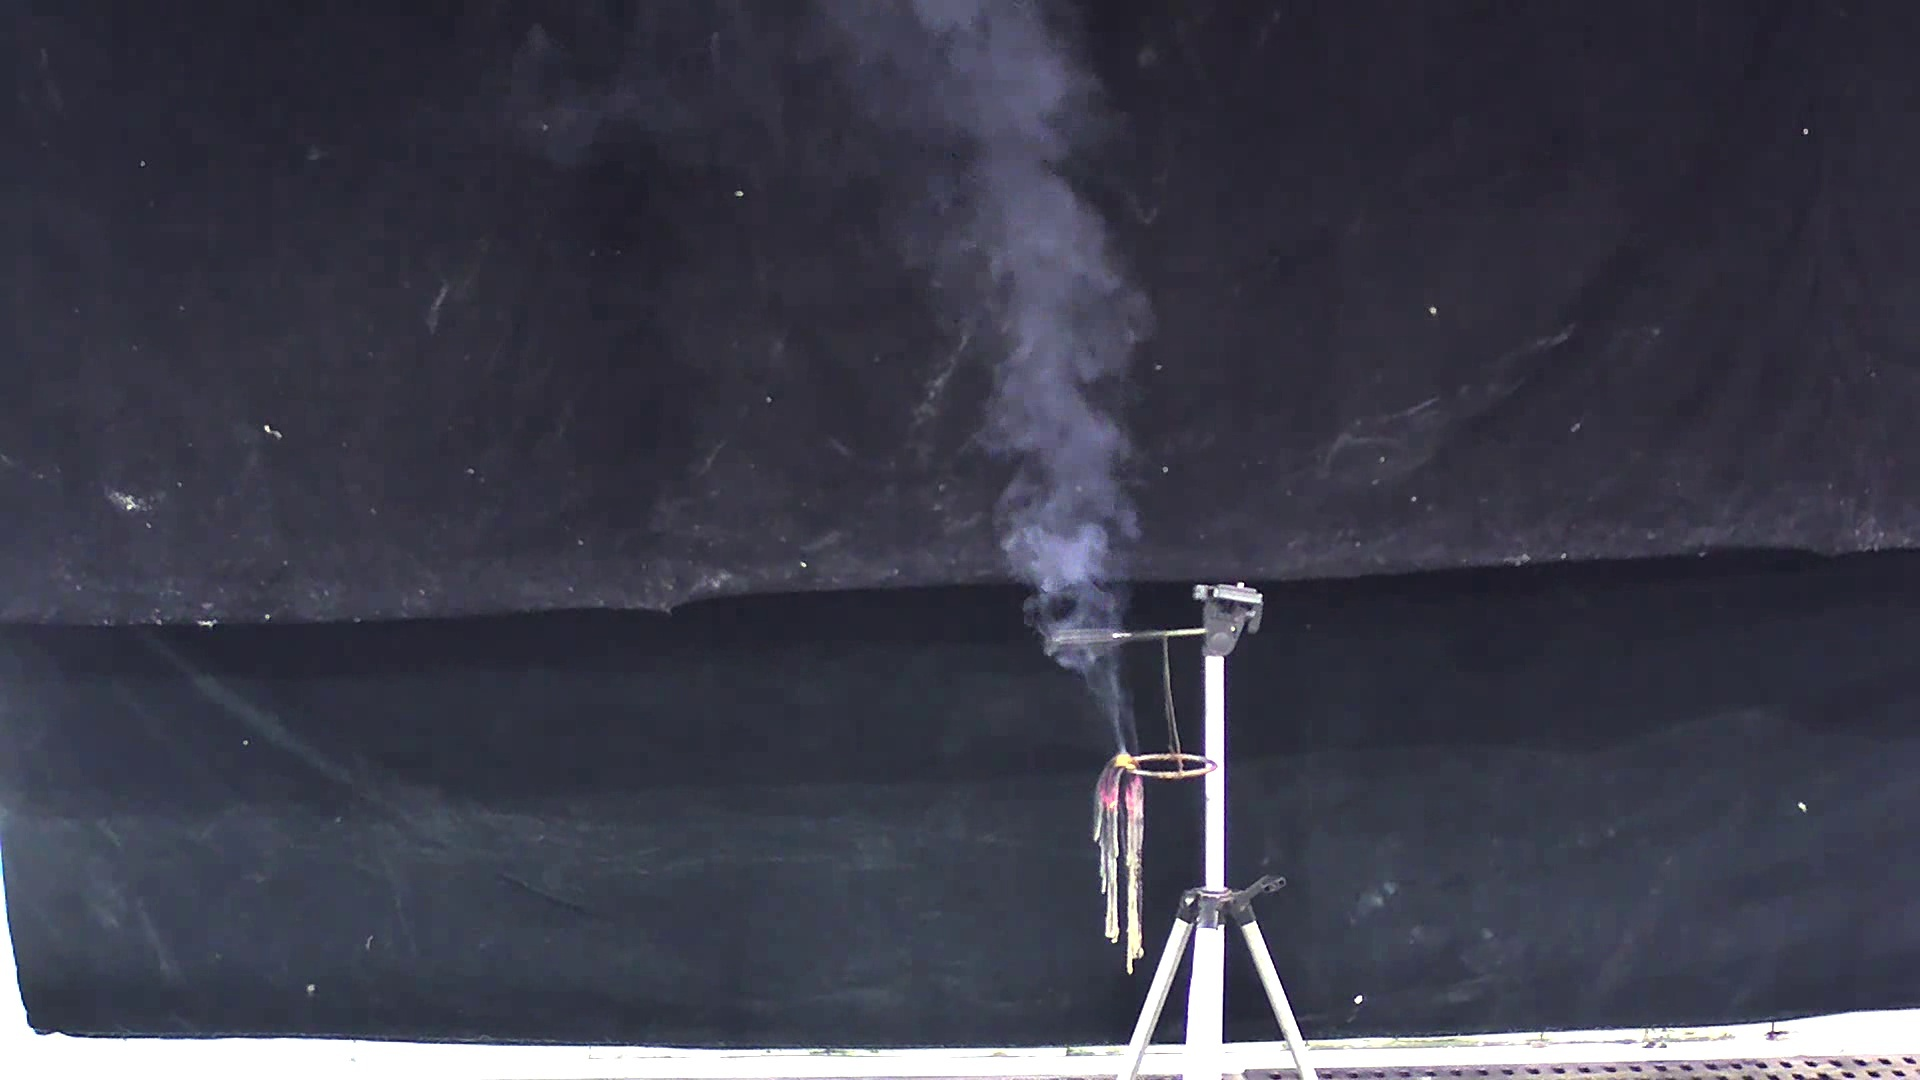smoke: (713, 13, 1164, 720)
